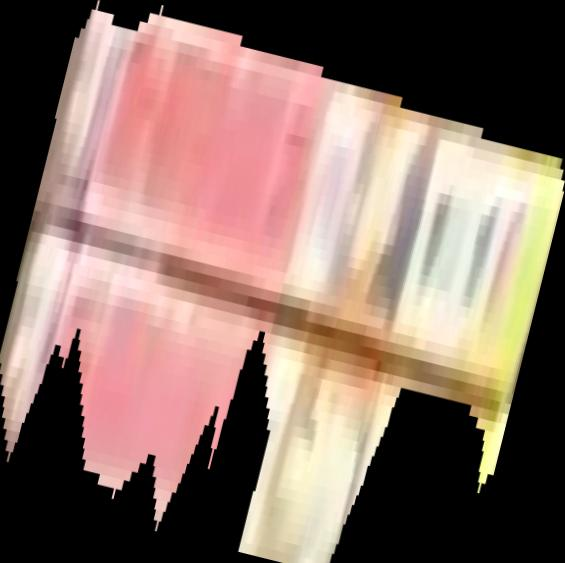flat: (1, 1, 565, 563)
